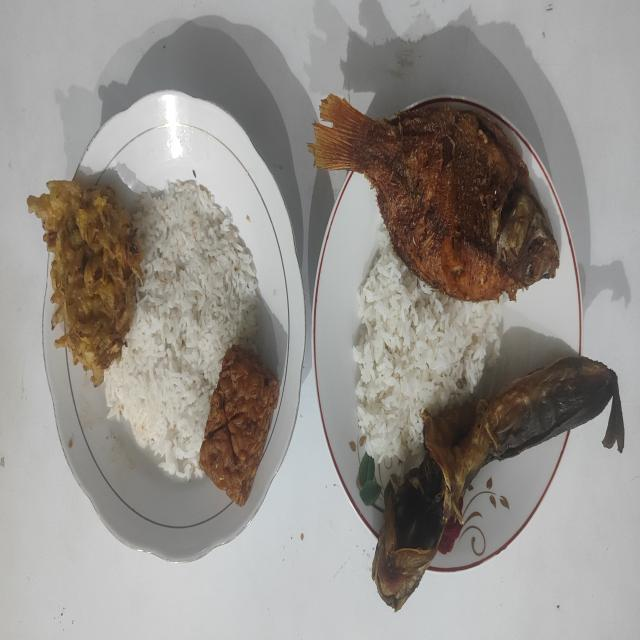ikan_mujair: (308, 94, 559, 301)
nasi_putih: (104, 180, 258, 480), (353, 224, 508, 467)
tempe_goreng: (200, 345, 279, 506)
